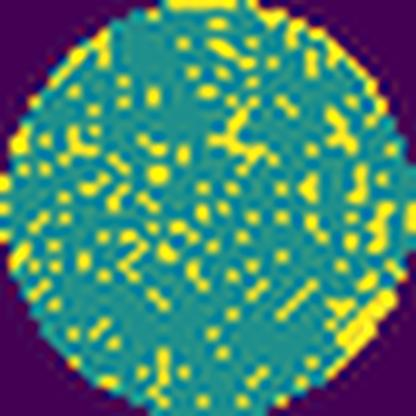Edge-Loc: (154, 0, 394, 120), (318, 294, 406, 390)
